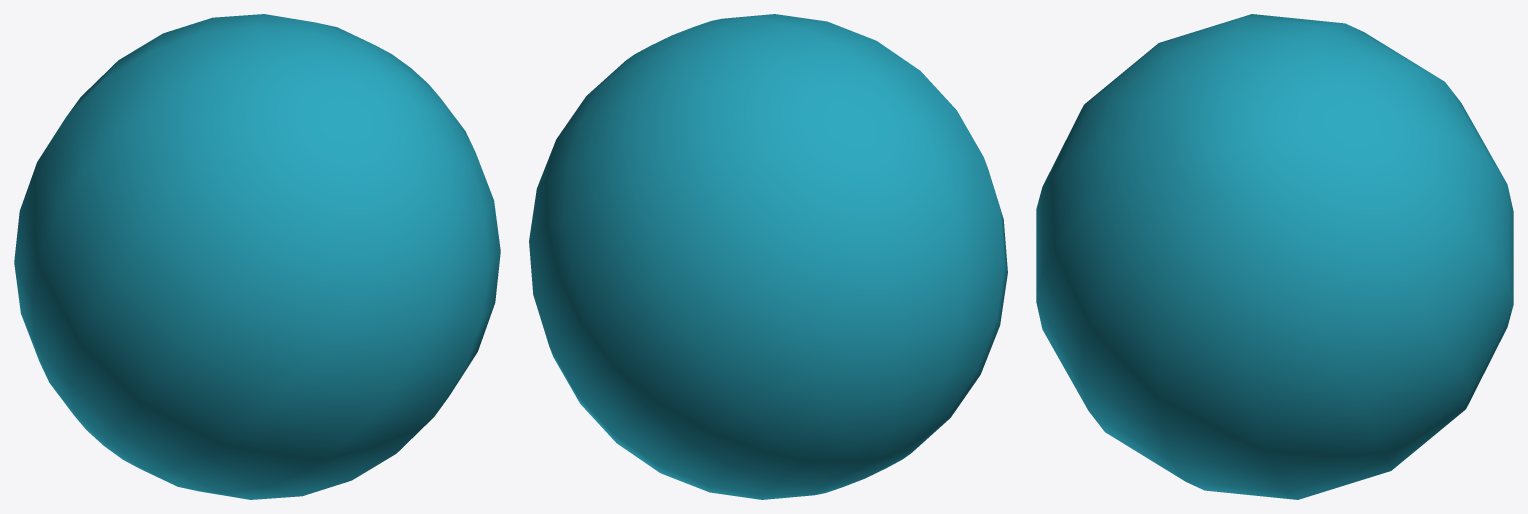
The model's file is Mainan 4.fbx.
3 views of the same model, side by side, from view 1: azimuth 30°, elevation 25°; view 2: azimuth 150°, elevation 25°; view 3: azimuth 270°, elevation 25° (orthographic).
Visible parts, largest first — view 1: pSphere1; view 2: pSphere1; view 3: pSphere1.
Part boxes in pixels (x1=…): pSphere1: x1=14, y1=14, x2=500, y2=499; pSphere1: x1=529, y1=14, x2=1007, y2=499; pSphere1: x1=1036, y1=14, x2=1513, y2=499.
Size of the model in its own units: 10.1 by 10.14 by 9.95.
